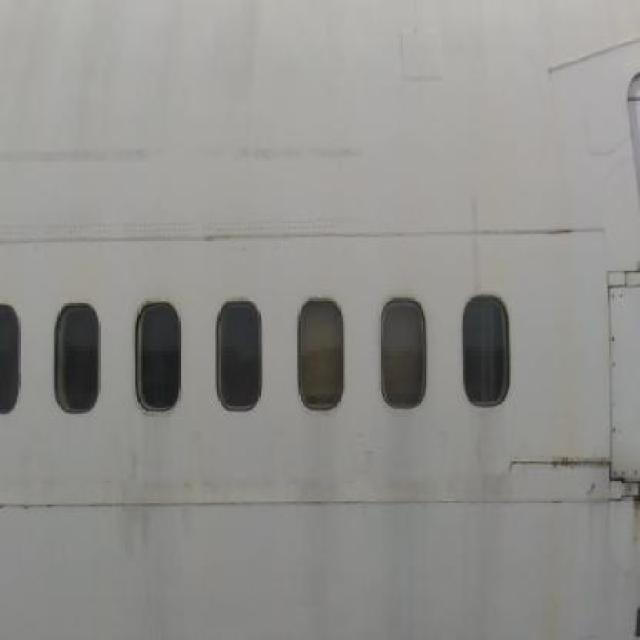Missing-Rivet: (209, 15, 268, 379), (391, 350, 640, 435), (537, 20, 574, 338), (365, 12, 392, 408), (260, 299, 374, 381)
